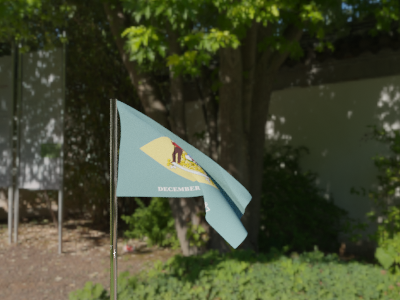Delaware flag: (114, 99, 252, 249)
